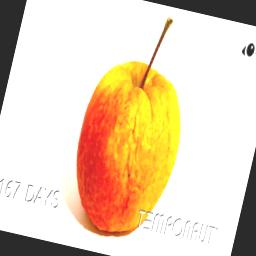Apple Overripe: (58, 2, 208, 248)
